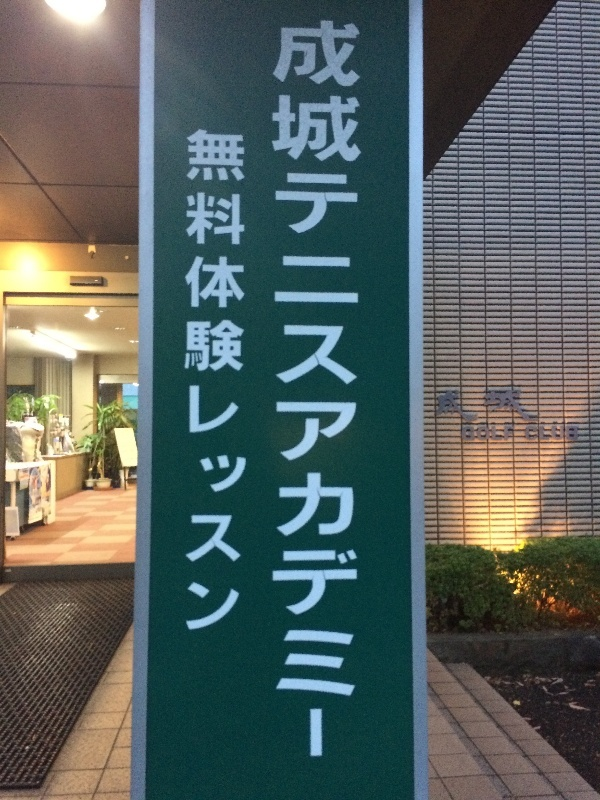text: (273, 19, 288, 761), (289, 19, 304, 761), (305, 19, 320, 761), (321, 19, 336, 761), (337, 19, 352, 761), (193, 127, 208, 638), (209, 127, 224, 638), (225, 127, 240, 638), (353, 19, 360, 761), (186, 127, 192, 638), (241, 127, 246, 638), (449, 387, 464, 424), (465, 387, 480, 424), (481, 387, 496, 424), (497, 387, 512, 424), (513, 387, 528, 424), (437, 387, 448, 424), (465, 422, 480, 443), (481, 422, 496, 443), (497, 422, 512, 443), (529, 422, 544, 443), (545, 422, 560, 443), (561, 422, 576, 443), (461, 422, 464, 443), (525, 422, 528, 443), (513, 422, 515, 443), (577, 422, 579, 443), (529, 387, 530, 424)
